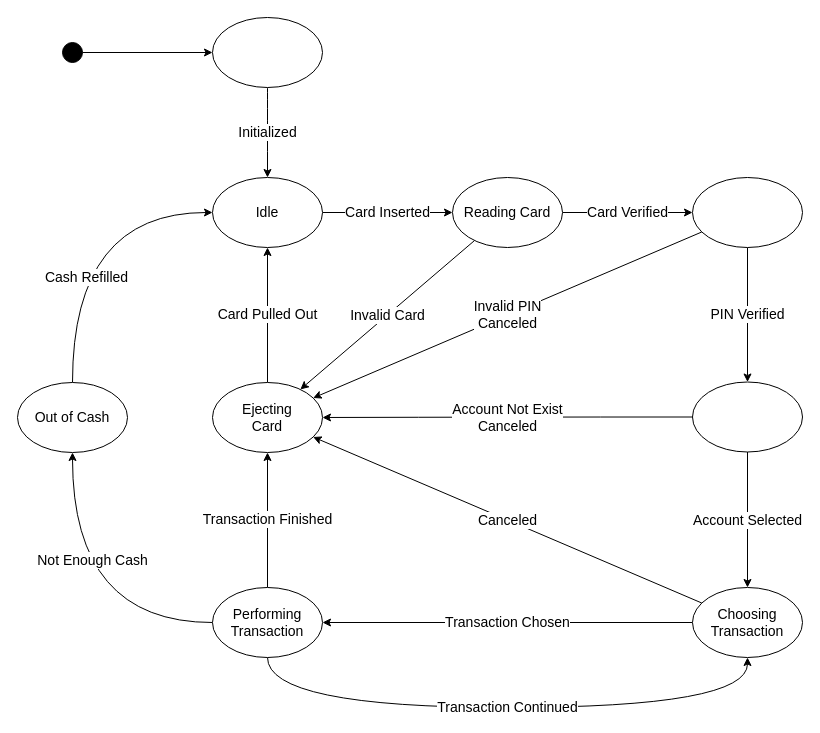
Some shapes in this 820 by 733 pixel diagram are drawn without their labels. Here are the shapes that lost their labels. From the top down, the box of each, then its label:
(212, 16, 322, 88): Initializing
(692, 176, 802, 248): Reading Pin
(692, 381, 802, 452): Selecting Account
